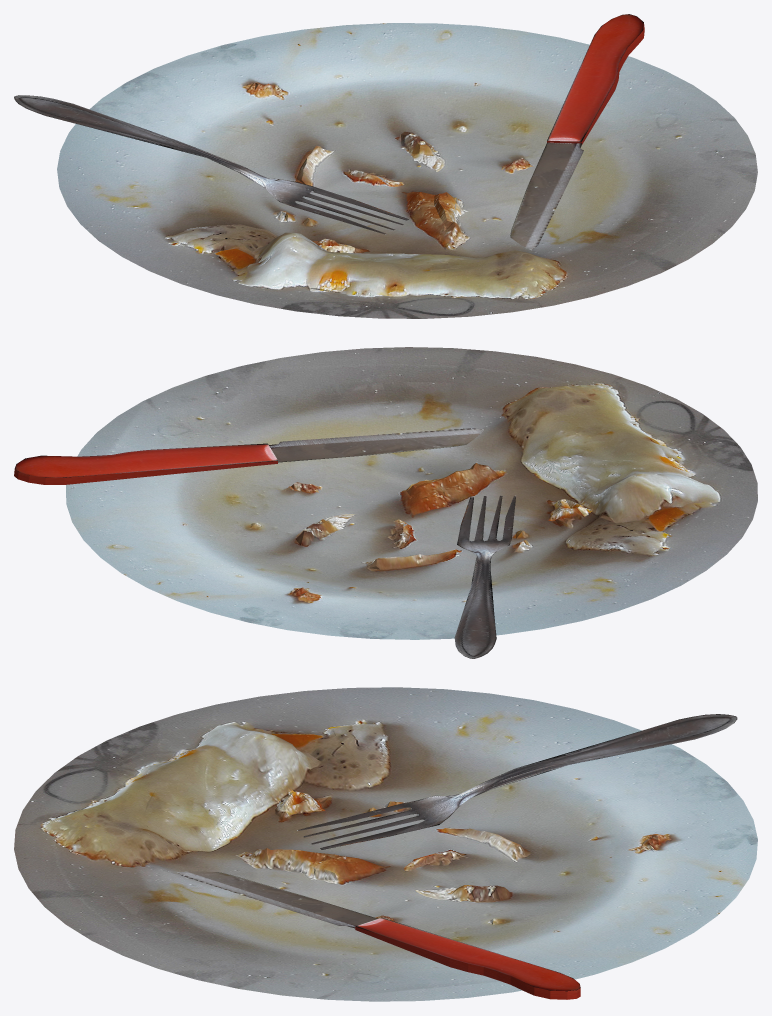
Rendered from plate.FBX.
The picture shows the model from 3 angles, top to bottom: view 1: azimuth 30°, elevation 25°; view 2: azimuth 150°, elevation 25°; view 3: azimuth 270°, elevation 25°; orthographic projection. The views are drawn at different scales.
Visible parts, largest first — view 1: plate; view 2: plate; view 3: plate.
Boxes of the visible parts, left/top/right/bottom form: plate: left=14, top=14, right=757, bottom=318; plate: left=14, top=347, right=757, bottom=658; plate: left=14, top=687, right=757, bottom=1001.
Bounding box in the file's own units: 115 × 10.26 × 113.
2 materials, 2 textured.
